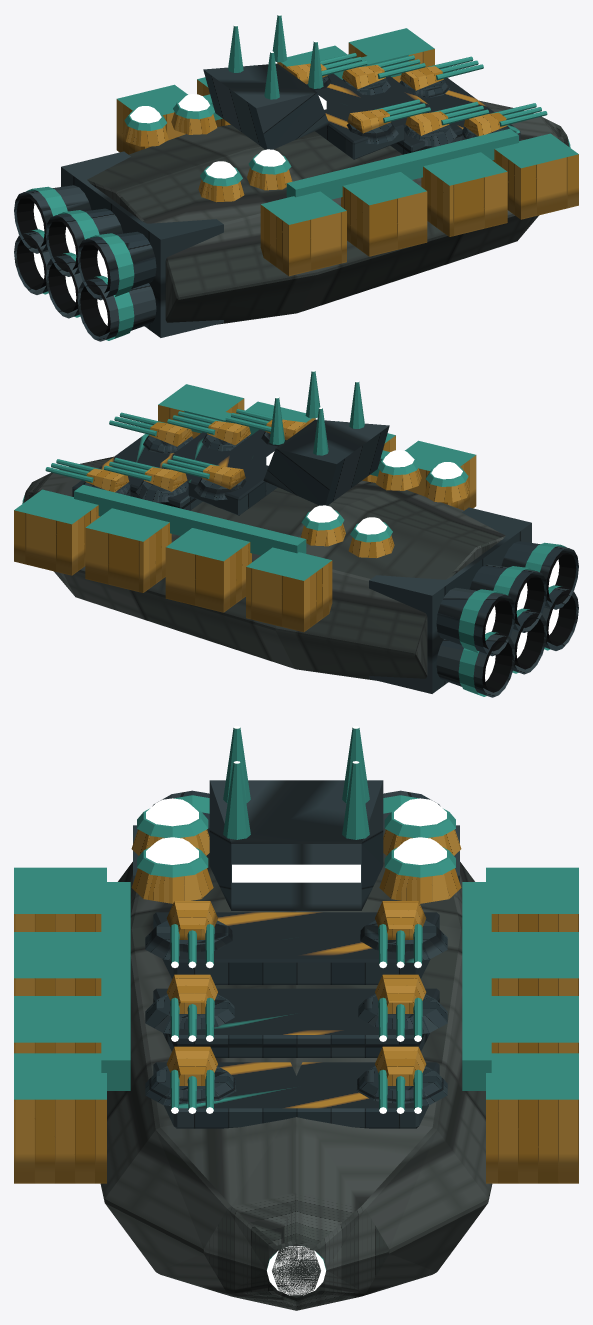
Rendered from dreadnought.glb.
The picture shows the model from 3 angles, top to bottom: view 1: azimuth 30°, elevation 25°; view 2: azimuth 150°, elevation 25°; view 3: azimuth 270°, elevation 25°; orthographic projection. The views are drawn at different scales.
Visible parts, largest first — view 1: hull_body, engine_block, weapon_turrets, sensor_tower, shield_domes; view 2: hull_body, engine_block, weapon_turrets, sensor_tower, shield_domes; view 3: hull_body, weapon_turrets, sensor_tower, shield_domes, engine_block.
Boxes of the visible parts, x1=… form: hull_body: x1=87, y1=28, x2=578, y2=324; engine_block: x1=14, y1=151, x2=223, y2=341; weapon_turrets: x1=285, y1=53, x2=570, y2=147; sensor_tower: x1=203, y1=14, x2=329, y2=149; shield_domes: x1=123, y1=94, x2=292, y2=202; hull_body: x1=14, y1=384, x2=505, y2=680; engine_block: x1=369, y1=507, x2=578, y2=697; weapon_turrets: x1=22, y1=409, x2=307, y2=503; sensor_tower: x1=263, y1=370, x2=389, y2=505; shield_domes: x1=300, y1=450, x2=469, y2=558; hull_body: x1=14, y1=828, x2=578, y2=1310; weapon_turrets: x1=145, y1=901, x2=447, y2=1295; sensor_tower: x1=209, y1=726, x2=383, y2=910; shield_domes: x1=131, y1=798, x2=461, y2=903; engine_block: x1=133, y1=790, x2=459, y2=882.
Bounding box in the file's own units: 80 × 38.82 × 47.81.
Materials: 1 (1 with a texture image).
